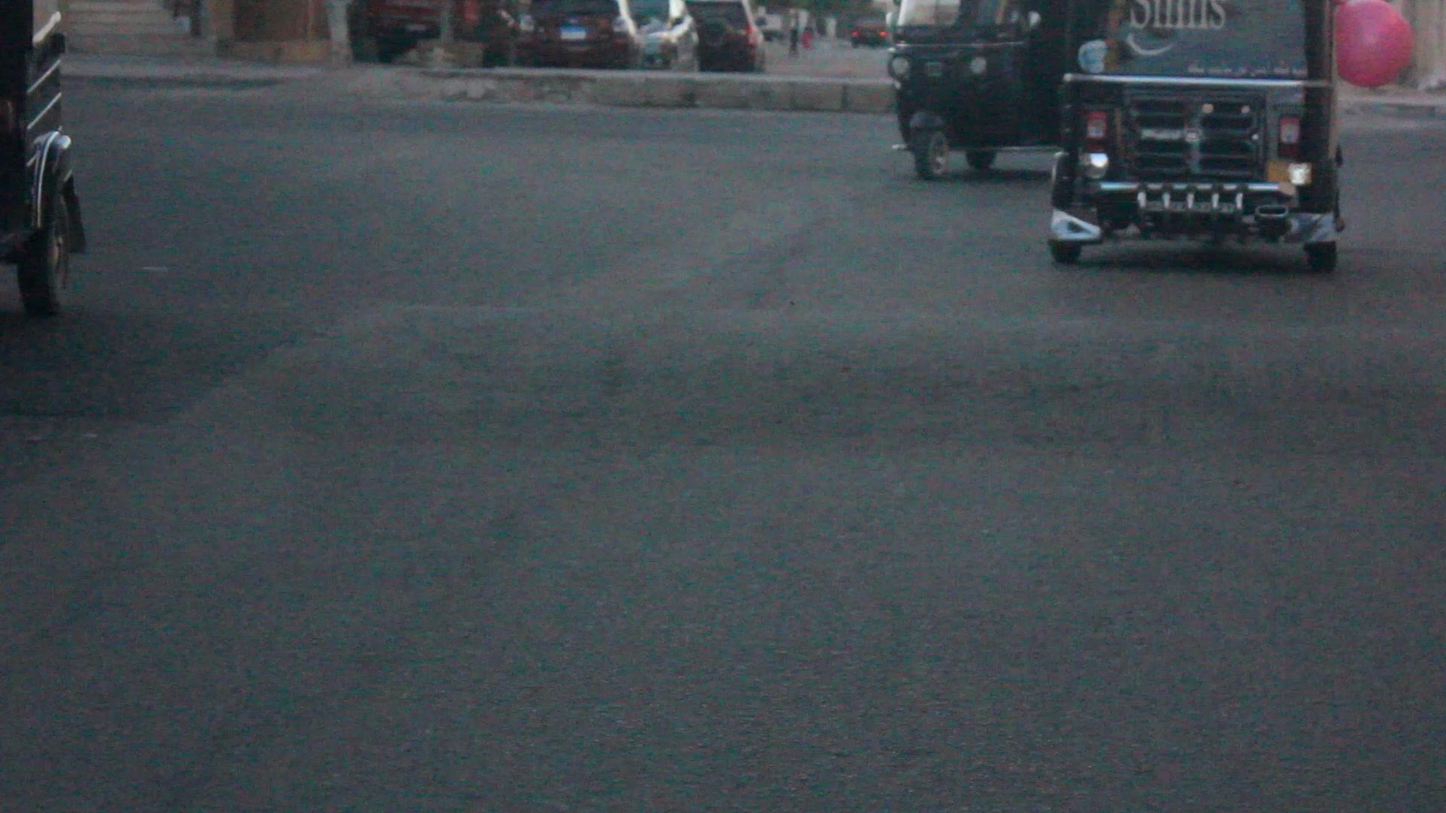Bump: (0, 294, 1446, 450)
